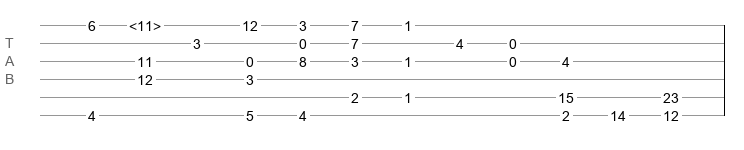0: (246, 54, 254, 64), (299, 36, 307, 46), (509, 36, 517, 46), (509, 54, 517, 64)
1: (404, 90, 412, 100), (404, 18, 412, 28), (404, 54, 412, 64)
11: (137, 54, 153, 64)
12: (137, 72, 153, 82), (242, 18, 258, 28), (663, 108, 679, 118)
14: (610, 108, 626, 118)
15: (558, 90, 574, 100)
2: (351, 90, 359, 100), (562, 108, 570, 118)
23: (663, 90, 679, 100)
3: (193, 36, 201, 46), (246, 72, 254, 82), (299, 18, 307, 28), (351, 54, 359, 64)
4: (88, 108, 96, 118), (299, 108, 307, 118), (456, 36, 464, 46), (562, 54, 570, 64)
5: (246, 108, 254, 118)
6: (88, 18, 96, 28)
7: (351, 18, 359, 28), (351, 36, 359, 46)
8: (299, 54, 307, 64)
harmonic: (129, 18, 161, 28)
